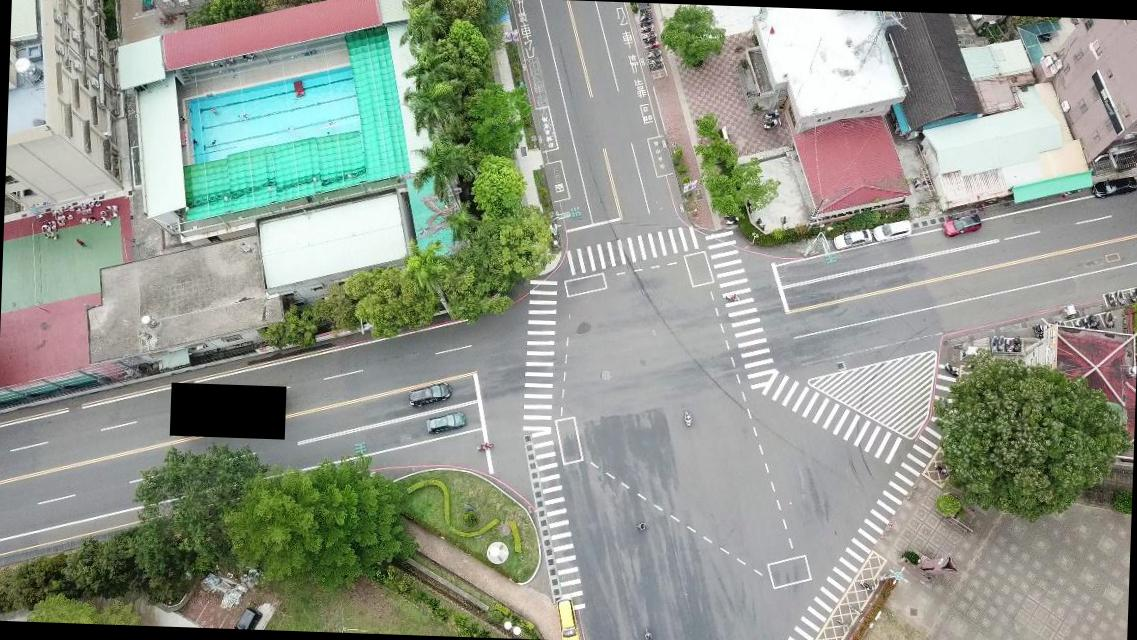vehicle: (548, 592, 577, 639), (406, 379, 452, 407), (1089, 174, 1136, 201), (941, 212, 982, 237), (872, 218, 912, 242), (424, 411, 465, 434), (833, 228, 872, 252), (232, 606, 259, 630)
